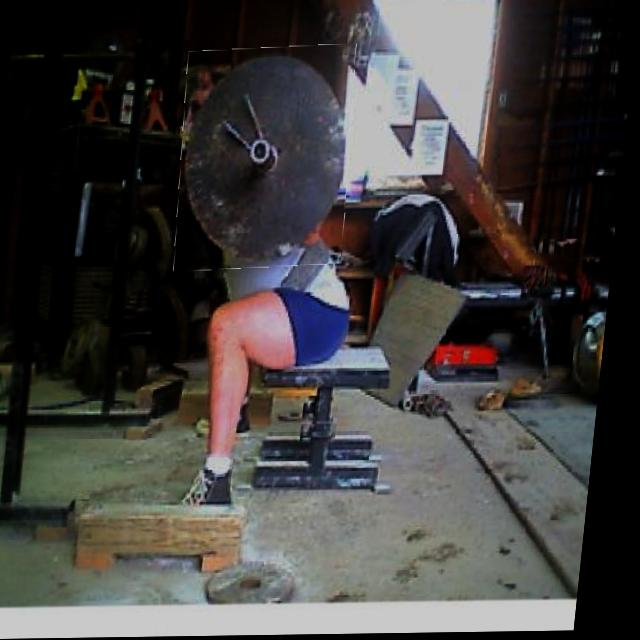barbell: (175, 47, 364, 271)
